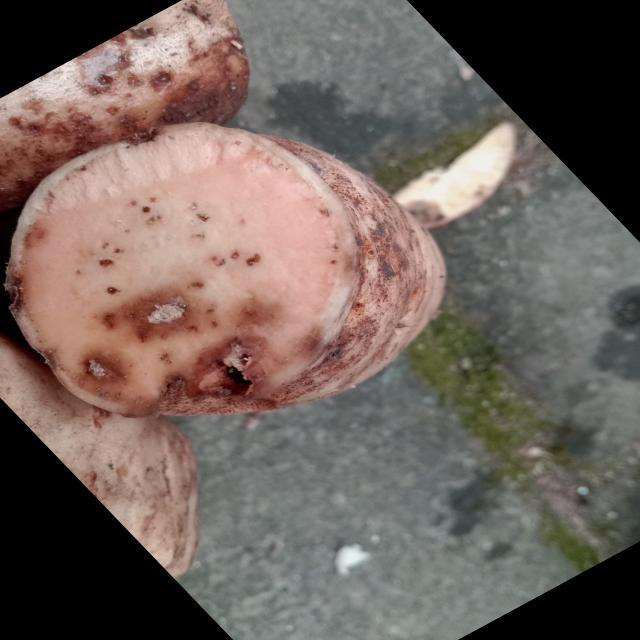Sick Sweet Potato_Tuber Rot: (7, 122, 358, 416)
